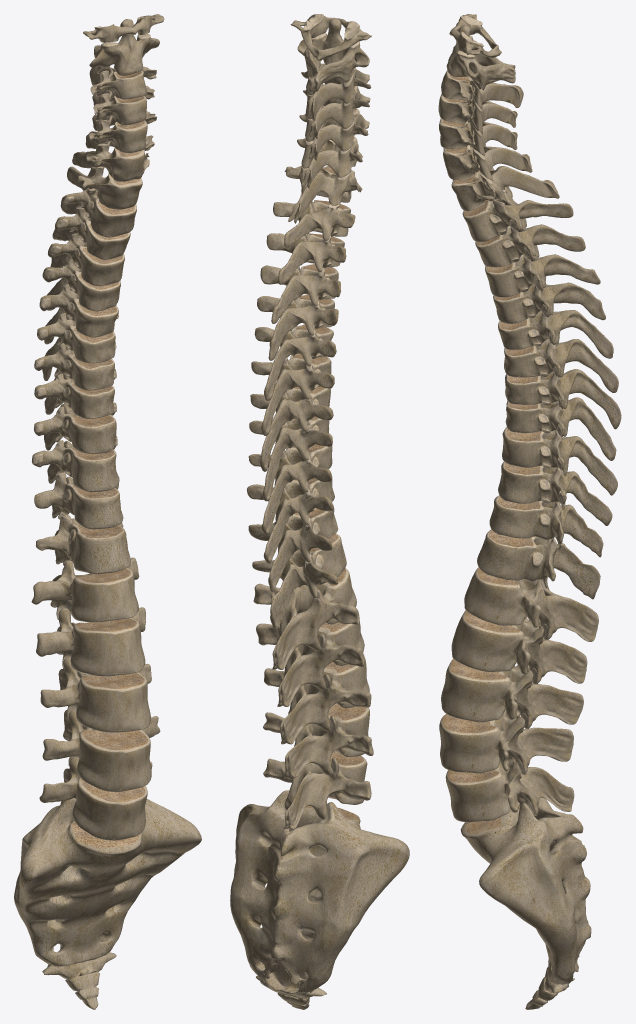
The model's file is spine.glb.
The picture shows the model from 3 angles, left to right: view 1: azimuth 30°, elevation 25°; view 2: azimuth 150°, elevation 25°; view 3: azimuth 270°, elevation 25°; orthographic projection. The views are drawn at different scales.
Parts seen in each view (by area): view 1: Object_26, Object_16, Object_17, Object_18, Object_19, Object_20, Object_13, Object_14, Object_3, Object_12, Object_15, Object_11 (+23 smaller); view 2: Object_26, Object_19, Object_20, Object_16, Object_17, Object_18, Object_13, Object_14, Object_3, Object_12, Object_15, Object_10 (+15 smaller); view 3: Object_26, Object_17, Object_16, Object_18, Object_19, Object_20, Object_13, Object_14, Object_12, Object_3, Object_10, Object_9 (+20 smaller).
Part boxes in pixels (left/top/right/bottom): Object_26: left=14, top=798, right=201, bottom=1009; Object_16: left=36, top=607, right=145, bottom=674; Object_17: left=40, top=657, right=151, bottom=730; Object_18: left=42, top=710, right=160, bottom=790; Object_19: left=31, top=557, right=139, bottom=621; Object_20: left=39, top=757, right=152, bottom=839; Object_13: left=35, top=515, right=131, bottom=572; Object_14: left=34, top=472, right=123, bottom=526; Object_3: left=31, top=435, right=119, bottom=490; Object_12: left=34, top=402, right=116, bottom=452; Object_15: left=89, top=19, right=159, bottom=75; Object_11: left=34, top=369, right=115, bottom=417; Object_26: left=230, top=790, right=409, bottom=1009; Object_19: left=253, top=571, right=359, bottom=669; Object_20: left=263, top=758, right=371, bottom=829; Object_16: left=256, top=621, right=364, bottom=706; Object_17: left=264, top=654, right=371, bottom=744; Object_18: left=263, top=709, right=373, bottom=778; Object_13: left=252, top=535, right=346, bottom=630; Object_14: left=248, top=504, right=338, bottom=591; Object_3: left=247, top=475, right=334, bottom=563; Object_12: left=248, top=445, right=332, bottom=535; Object_15: left=297, top=18, right=369, bottom=91; Object_10: left=250, top=388, right=333, bottom=471; Object_26: left=460, top=797, right=591, bottom=1009; Object_17: left=441, top=665, right=583, bottom=728; Object_16: left=451, top=615, right=587, bottom=684; Object_18: left=439, top=710, right=573, bottom=775; Object_19: left=464, top=571, right=598, bottom=641; Object_20: left=445, top=756, right=574, bottom=821; Object_13: left=477, top=530, right=600, bottom=599; Object_14: left=489, top=496, right=603, bottom=557; Object_12: left=502, top=428, right=617, bottom=495; Object_3: left=498, top=462, right=612, bottom=525; Object_10: left=505, top=369, right=621, bottom=429; Object_9: left=504, top=339, right=618, bottom=392.
Bounding box in the file's own units: 13.19 × 72.73 × 12.24.
4 materials, 4 textured.
